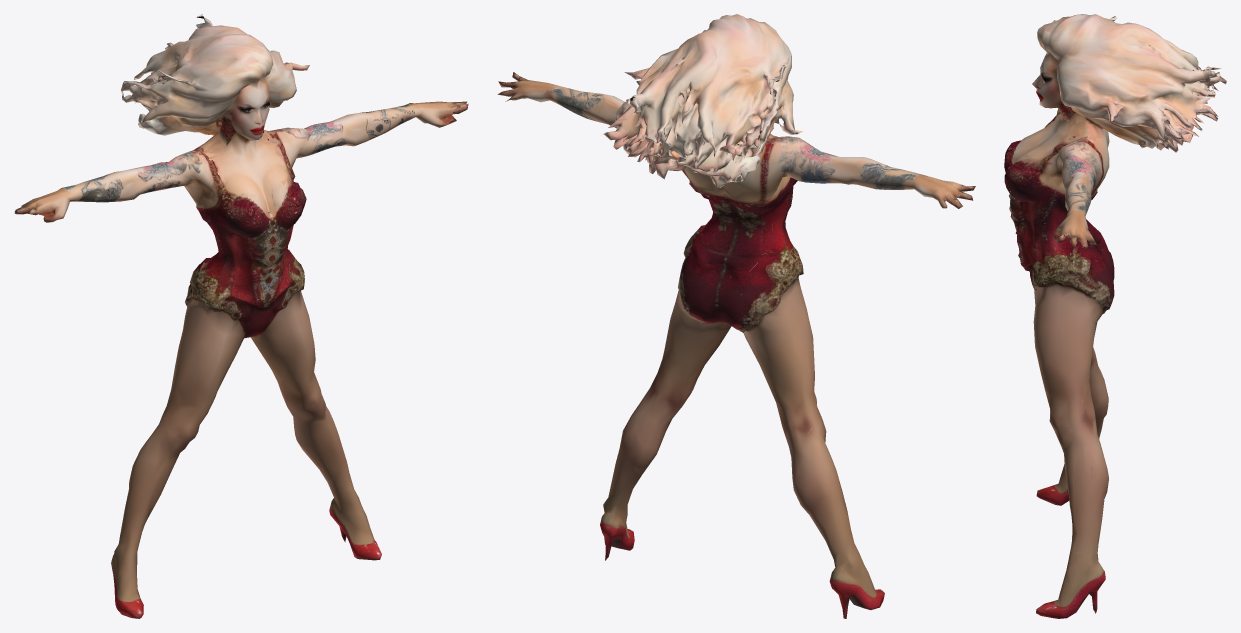
The model's file is Meshy_AI_Radiant_Glamour_1226144442_texture.glb.
3 renders of one model, left to right at view 1: azimuth 30°, elevation 25°; view 2: azimuth 150°, elevation 25°; view 3: azimuth 270°, elevation 25°, orthographic. The views are drawn at different scales.
Size of the model in its own units: 1.69 by 1.92 by 0.7148.
1 material, 1 textured.
